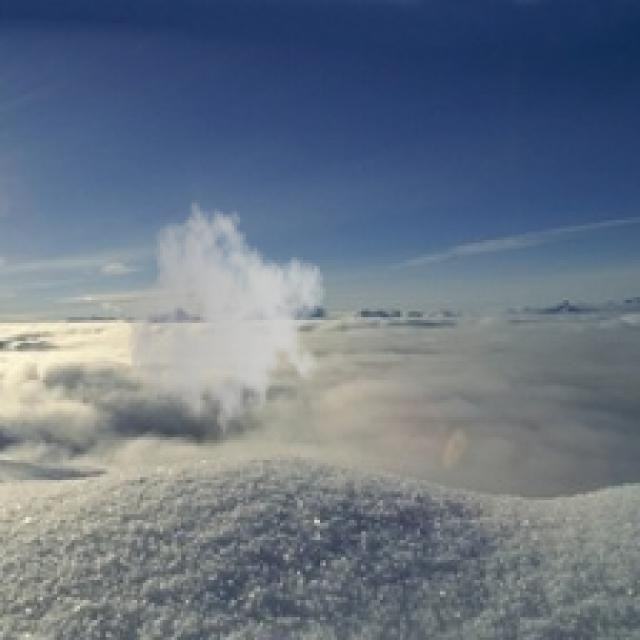Smoke: (126, 201, 326, 448)
